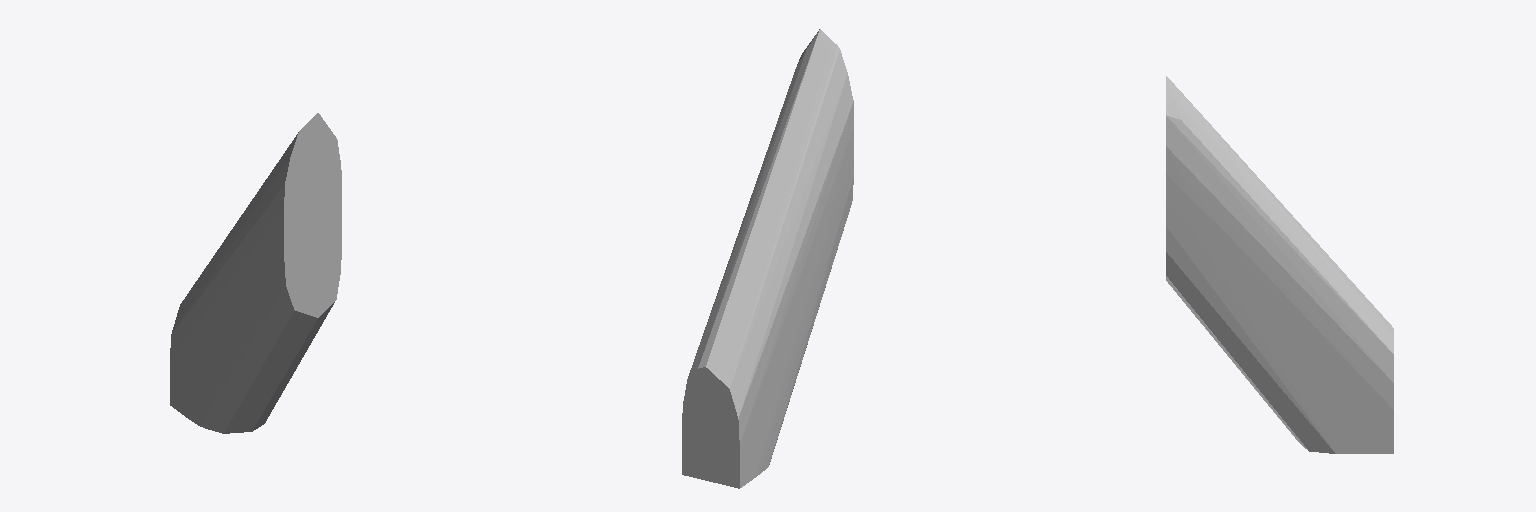
File: Cart_outer_skeleton_collision_16.obj
3 renders of one model, left to right at view 1: azimuth 30°, elevation 25°; view 2: azimuth 150°, elevation 25°; view 3: azimuth 270°, elevation 25°, orthographic.
Size of the model in its own units: 0.0192 by 0.1161 by 0.0654.